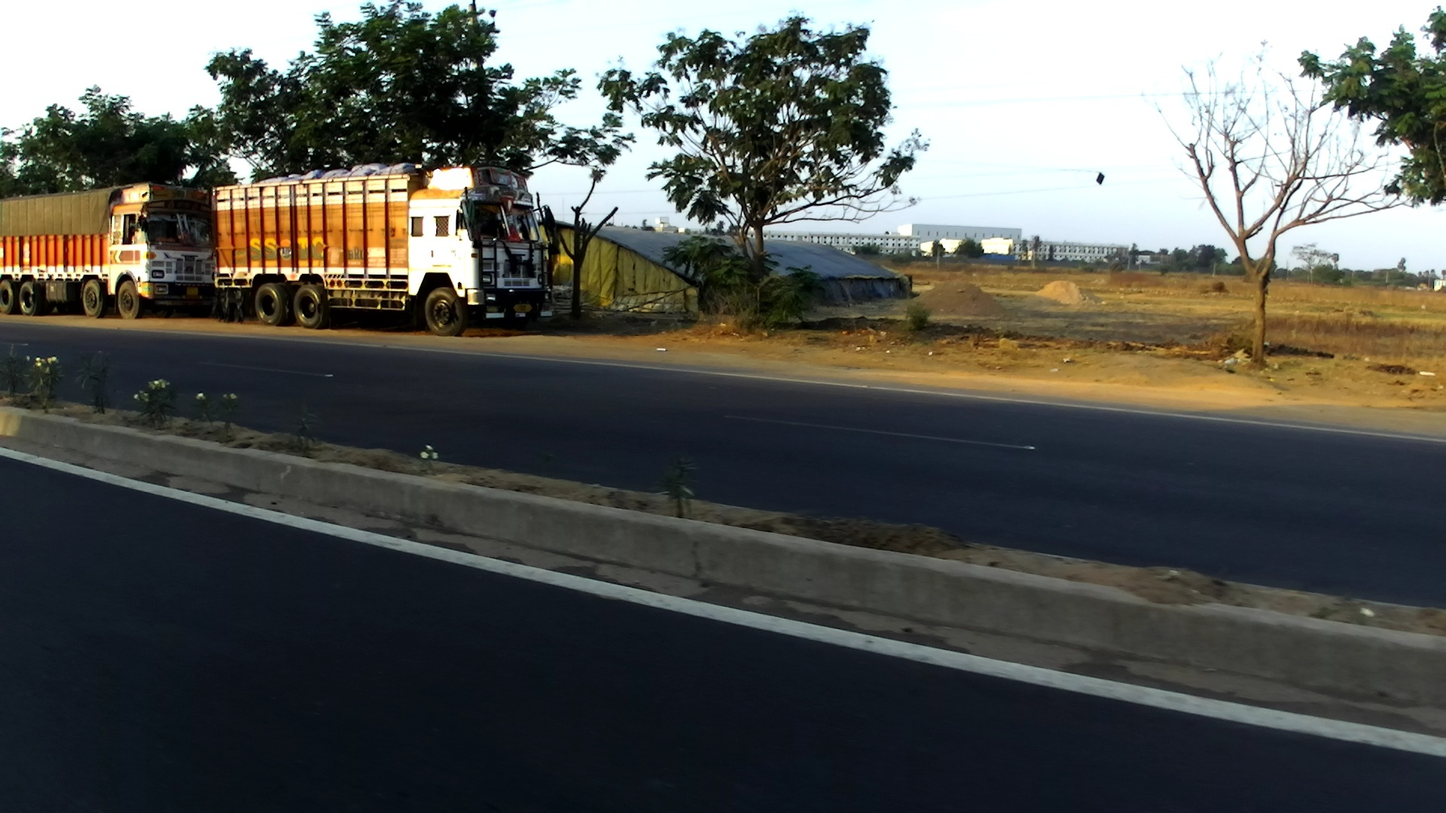truck: (2, 181, 225, 319)
